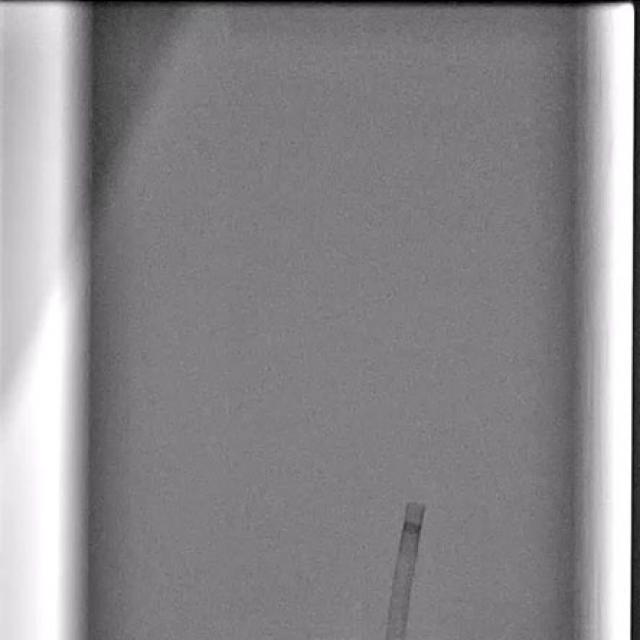entry: (384, 635, 405, 640)
marker: (402, 520, 423, 536)
tip: (406, 502, 426, 510)
